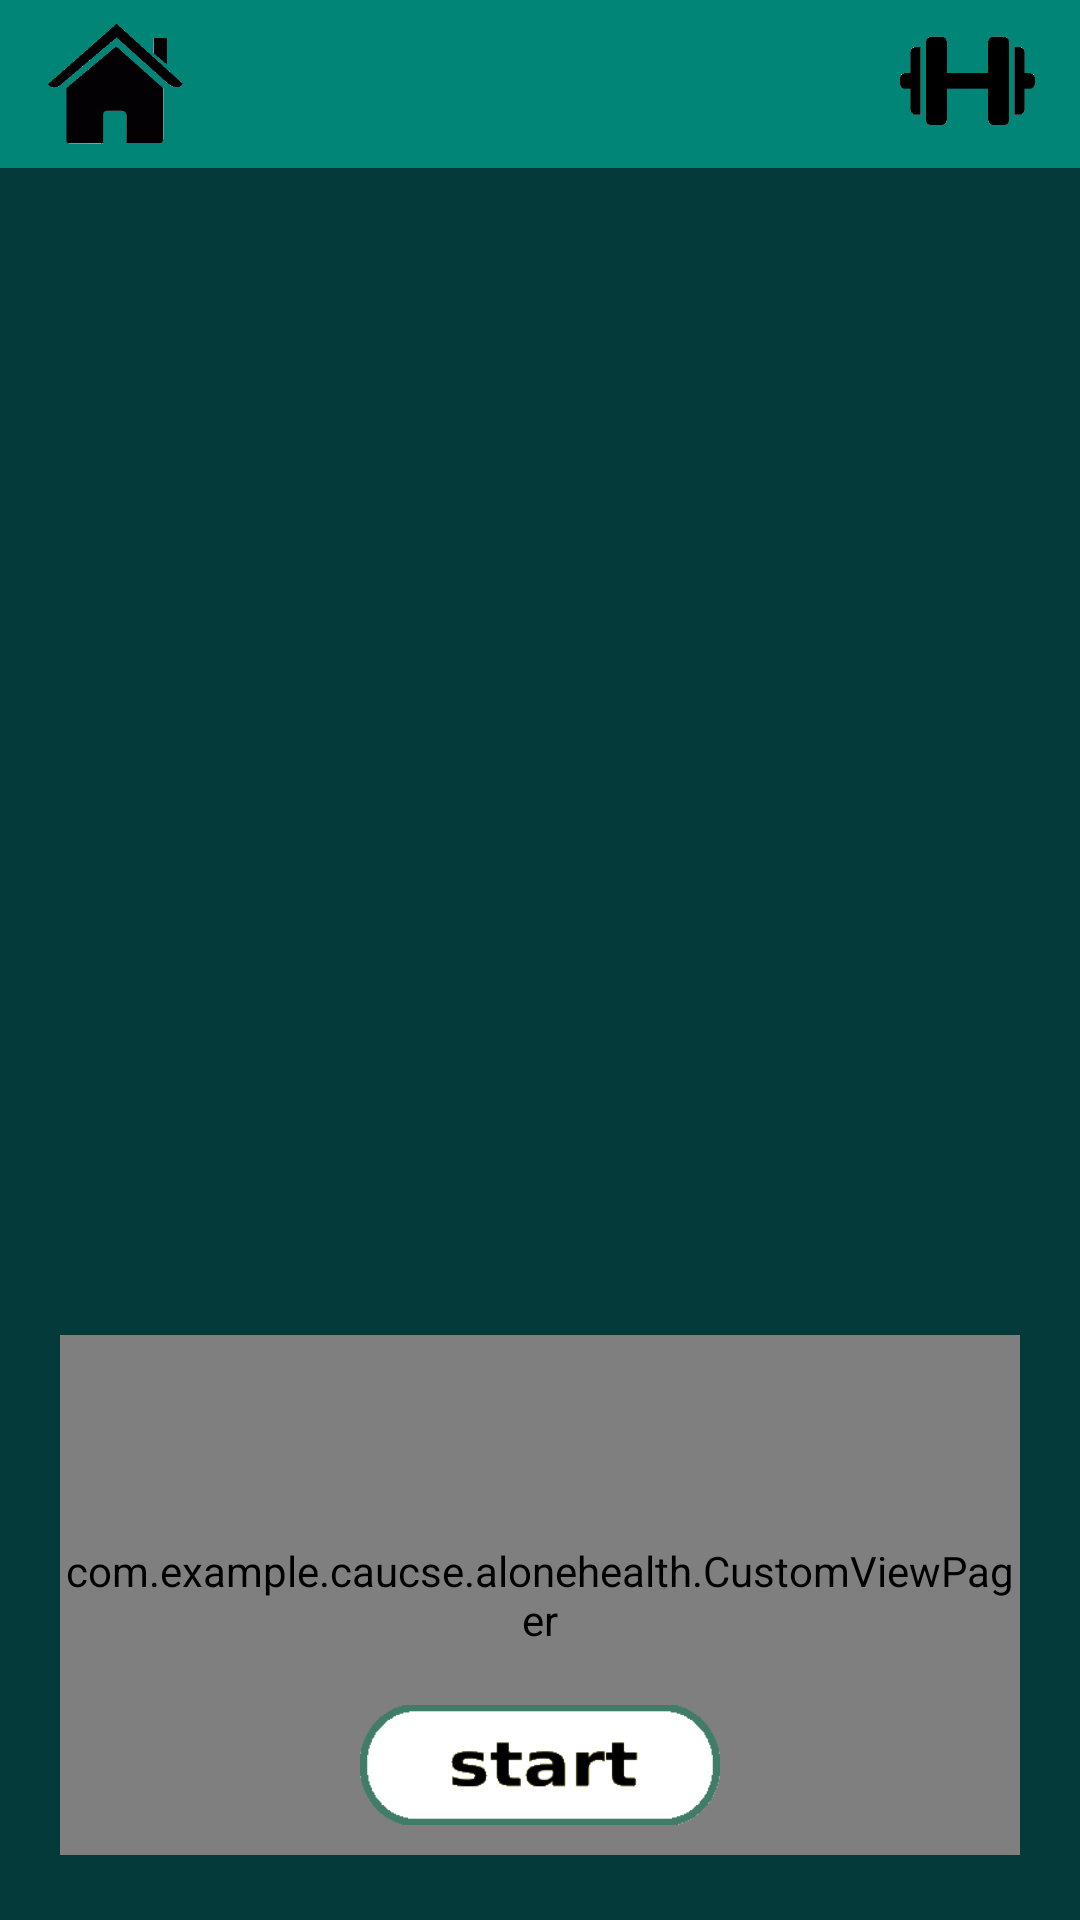

Where to tap for icons on this 1080x1920 app screen, as point (x, y):
homebutton: point (115, 84)
